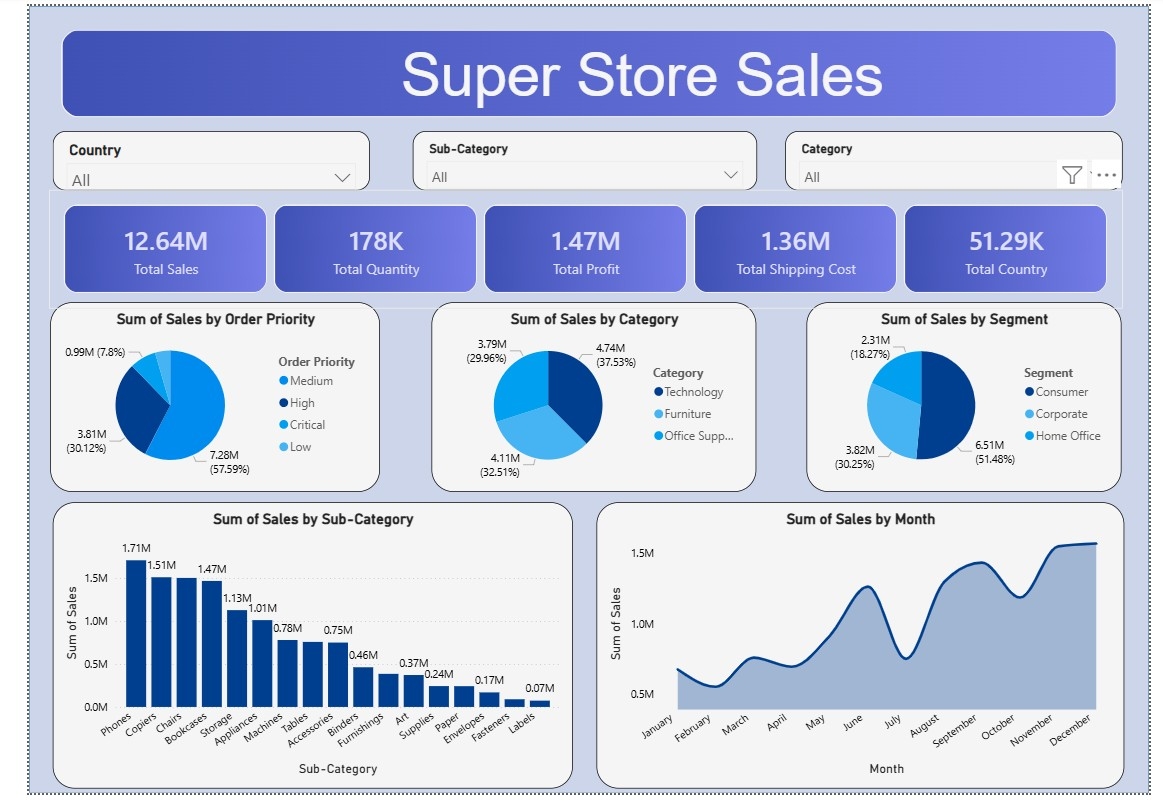

This screenshot's page, from the dashboard's own definition file:
{"tool":"powerbi","page":{"name":"Page 1","canvas":[1280,900],"ordinal":0},"visuals":[{"type":"clusteredColumnChart","fields":{"Y":["Sum(Orders.Sales)"],"Category":["Orders.Sub-Category"]},"box":[26.9,567.7,594.3,327.1],"z":0},{"type":"pieChart","fields":{"Y":["Sum(Orders.Sales)"],"Category":["Orders.Order Priority"]},"box":[666.2,338.6,271.4,217.1],"z":1000},{"type":"pieChart","fields":{"Y":["Sum(Orders.Sales)"],"Category":["Orders.Category"]},"box":[348.1,338.6,268.6,217.1],"z":2000},{"type":"pieChart","fields":{"Y":["Sum(Orders.Sales)"],"Category":["Orders.Segment"]},"box":[987.1,338.6,262.9,217.1],"z":3000},{"type":"areaChart","fields":{"Category":["Orders.Order Date.Variation.Date Hierarchy.Month"],"Y":["Sum(Orders.Sales)"]},"box":[646.7,567.8,603.3,326.7],"z":4000},{"type":"cardVisual","fields":{"Data":["Sum(Orders.Sales)","Sum(Orders.Quantity)","Sum(Orders.Profit)","Sum(Orders.Shipping Cost)","CountNonNull(Orders.Country)"]},"box":[26.7,203.3,1226.7,135],"z":5000},{"type":"cardVisual","title":"Super Store Analysis","fields":{"Data":["Sum(Orders.Sales)"]},"box":[20,18.3,1256.7,143.3],"z":6000},{"type":"pieChart","fields":{"Y":["Sum(Orders.Sales)"],"Category":["Orders.Ship Mode"]},"box":[35.7,338.6,262.9,217.1],"z":7000},{"type":"actionButton","title":"Infoshow","box":[0,0,31.8,32.9],"z":7500},{"type":"actionButton","title":"Show","box":[1180,0,100,40],"z":8000}]}

Visuals, with their boxes in screenshot pixels (x1, y1, x2, y2), scaled from the page's 1280x900 canvas onto the 1163x801 screenshot:
clusteredColumnChart - Sum(Orders.Sales) x Orders.Sub-Category: x1=24, y1=505, x2=564, y2=796
pieChart - Sum(Orders.Sales) x Orders.Order Priority: x1=605, y1=301, x2=852, y2=495
pieChart - Sum(Orders.Sales) x Orders.Category: x1=316, y1=301, x2=560, y2=495
pieChart - Sum(Orders.Sales) x Orders.Segment: x1=897, y1=301, x2=1136, y2=495
areaChart - Orders.Order Date.Variation.Date Hierarchy.Month x Sum(Orders.Sales): x1=588, y1=505, x2=1136, y2=796
cardVisual - Sum(Orders.Sales) x Sum(Orders.Quantity): x1=24, y1=181, x2=1139, y2=301
"Super Store Analysis" cardVisual: x1=18, y1=16, x2=1160, y2=144
pieChart - Sum(Orders.Sales) x Orders.Ship Mode: x1=32, y1=301, x2=271, y2=495
"Infoshow" actionButton: x1=0, y1=0, x2=29, y2=29
"Show" actionButton: x1=1072, y1=0, x2=1162, y2=36
